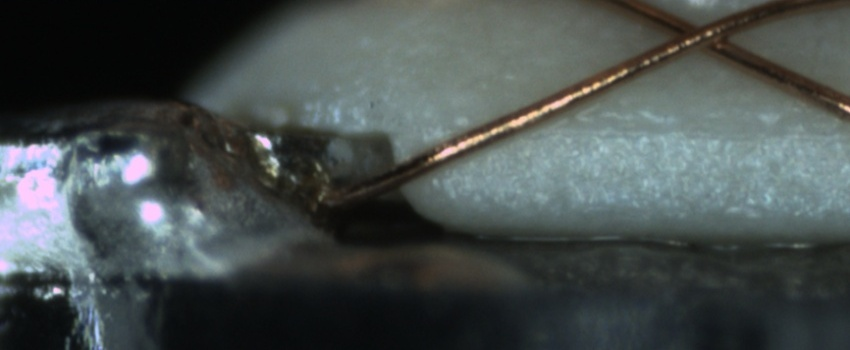CL: (651, 7, 748, 61)
DL: (519, 98, 850, 162)
